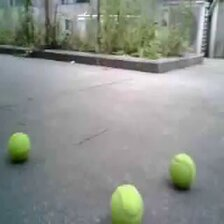tennis: (110, 186, 144, 224), (171, 153, 195, 188), (8, 132, 31, 158)
